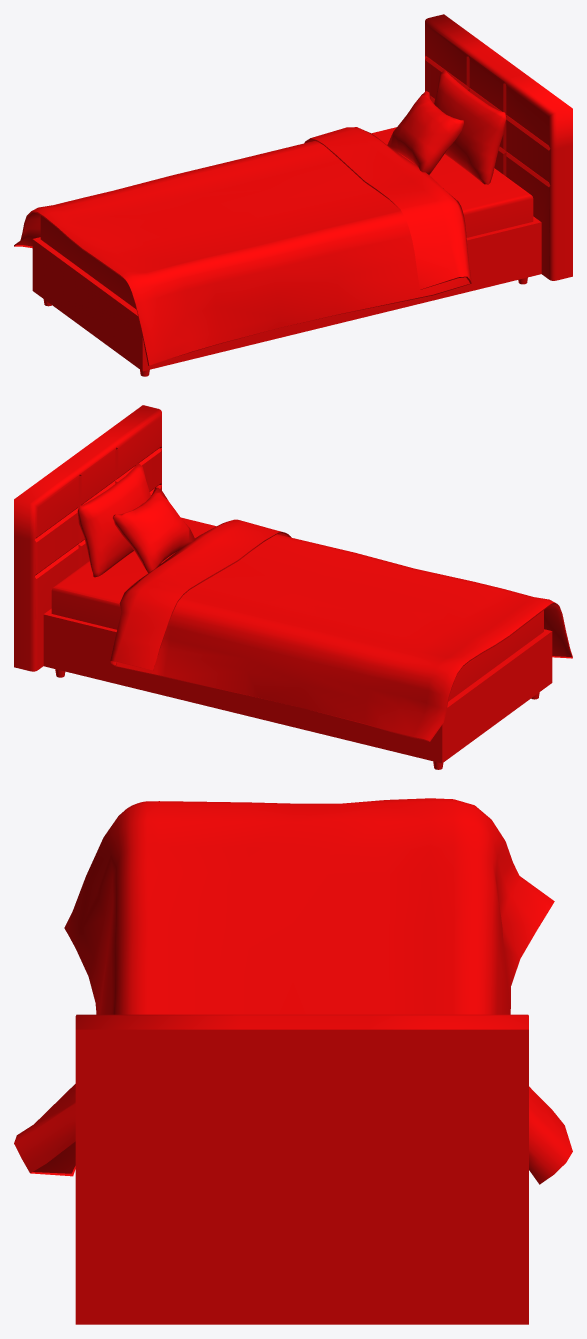
The model's file is single bed 22.fbx.
3 renders of one model, top to bottom at view 1: azimuth 30°, elevation 25°; view 2: azimuth 150°, elevation 25°; view 3: azimuth 270°, elevation 25°, orthographic. The views are drawn at different scales.
Visible parts, largest first — view 1: Object003; view 2: Object003; view 3: Object003.
Boxes of the visible parts, <box> form: Object003: <box>14,14,572,376</box>; Object003: <box>14,405,572,769</box>; Object003: <box>14,798,572,1324</box>.
Bounding box in the file's own units: 215 × 86.02 × 138.
